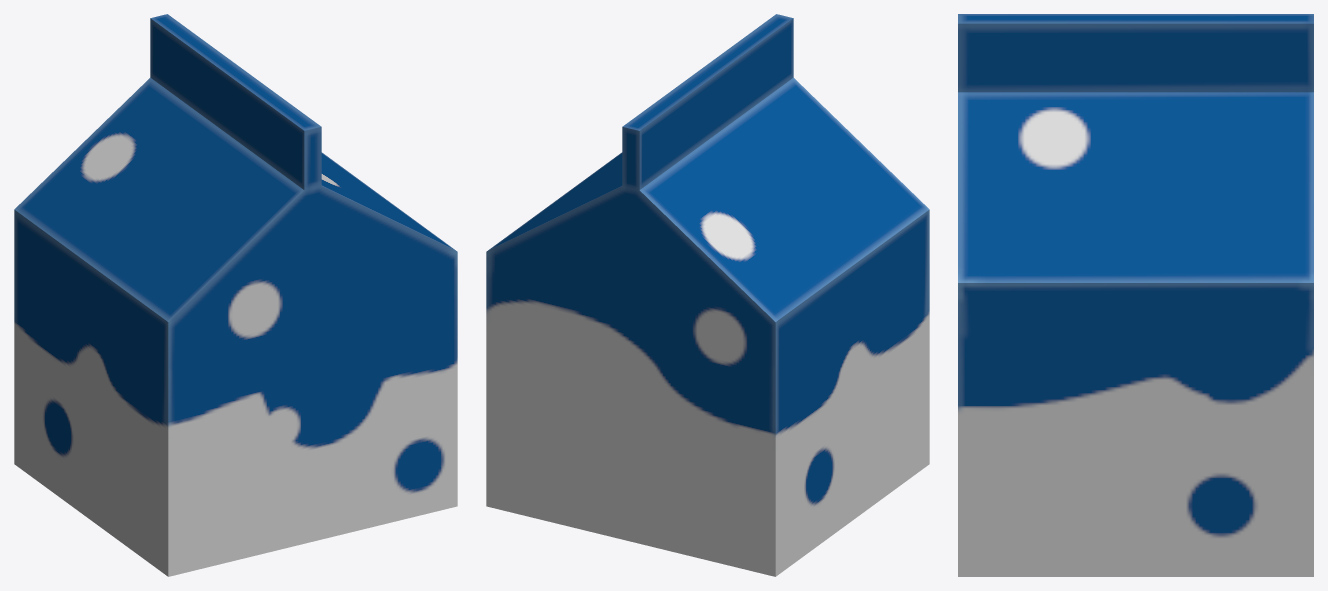
The model's file is milk.fbx.
3 views of the same model, side by side, from view 1: azimuth 30°, elevation 25°; view 2: azimuth 150°, elevation 25°; view 3: azimuth 270°, elevation 25° (orthographic). The views are drawn at different scales.
Parts seen in each view (by area): view 1: Milk; view 2: Milk; view 3: Milk.
Boxes of the visible parts, left/top/right/bottom form: Milk: left=14, top=14, right=457, bottom=576; Milk: left=486, top=14, right=929, bottom=576; Milk: left=958, top=14, right=1313, bottom=576.
Size of the model in its own units: 16.22 by 22.12 by 14.96.
